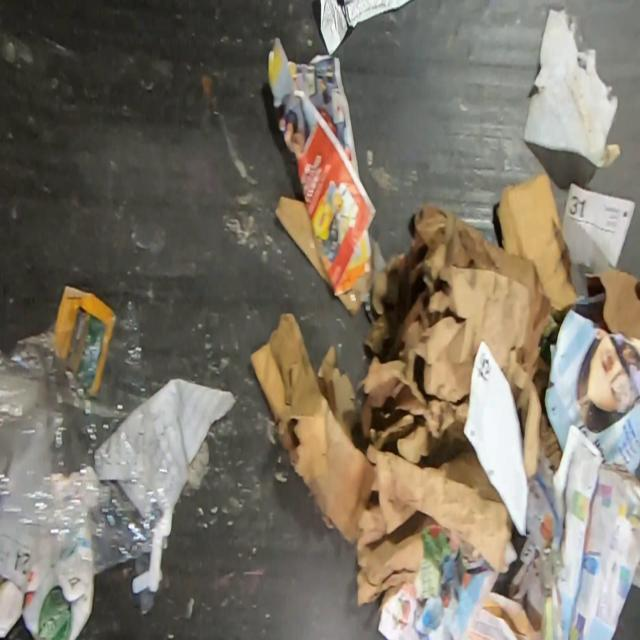cardboard: (249, 233, 542, 607), (410, 201, 559, 400), (496, 171, 578, 308), (273, 194, 326, 282), (587, 265, 640, 340)
soft_plastic: (0, 301, 176, 615)
